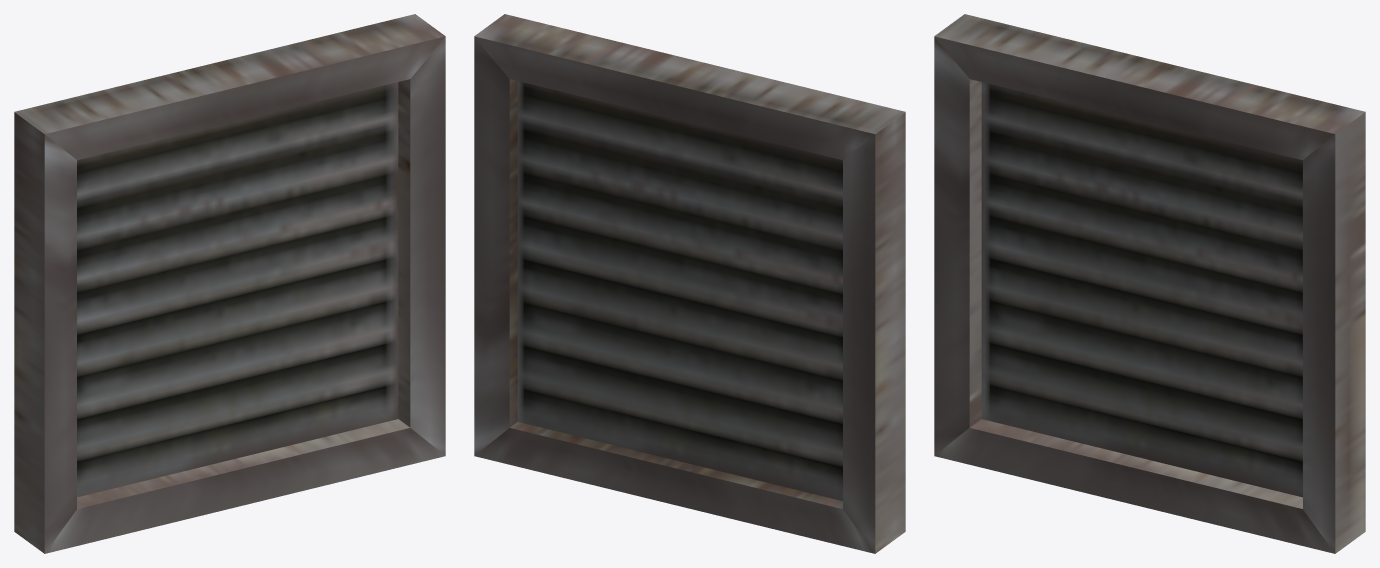
The model's file is vent_cover2.fbx.
3 views of the same model, side by side, from view 1: azimuth 30°, elevation 25°; view 2: azimuth 150°, elevation 25°; view 3: azimuth 330°, elevation 25° (orthographic).
Visible parts, largest first — view 1: vent_cover; view 2: vent_cover; view 3: vent_cover.
Boxes of the visible parts, bbox=[...] form: vent_cover: bbox=[14, 14, 445, 553]; vent_cover: bbox=[474, 14, 905, 553]; vent_cover: bbox=[934, 14, 1365, 553].
Size of the model in its own units: 112 by 112 by 14.79.
Materials: 1 (1 with a texture image).
